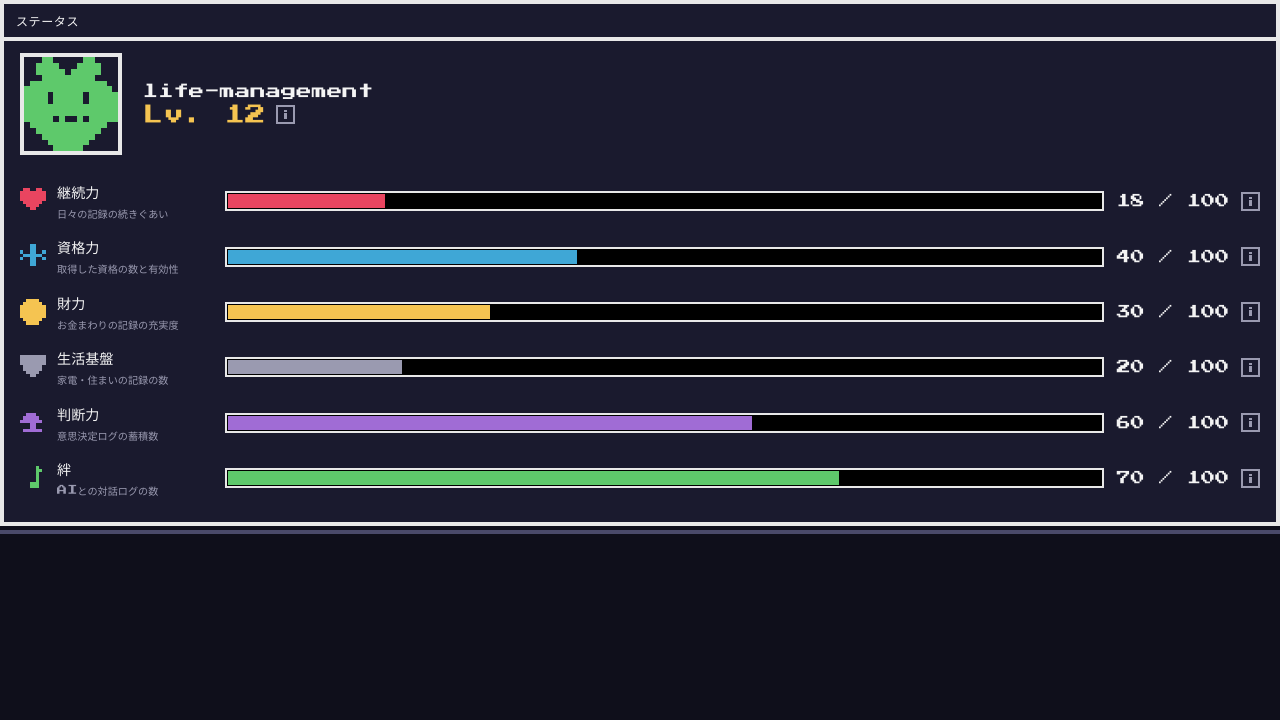
StatusPanel › shows the live breakdown from the status details
The width and height of the screenshot is (1280, 720).
Click the button named "継続力 の説明": [1250, 201] box 1241,192 -> 1260,211
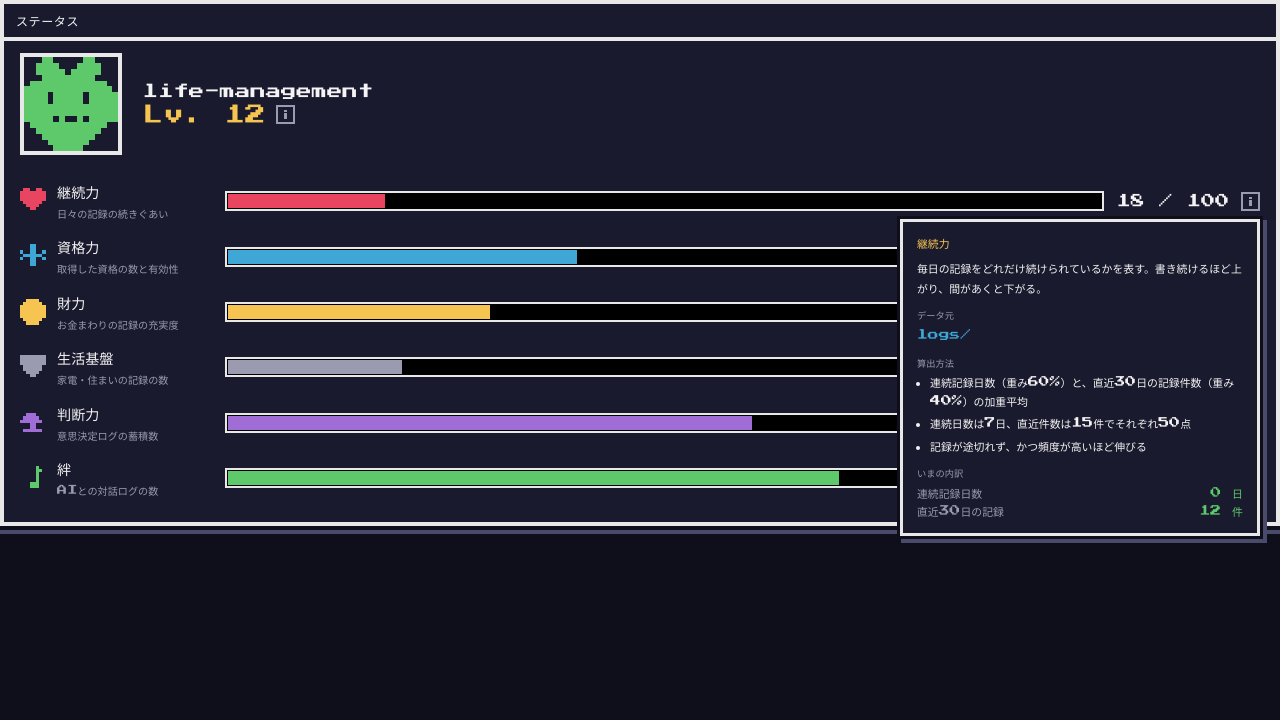
Check: the tooltip shows "12 件", box 1200,505 -> 1243,516
